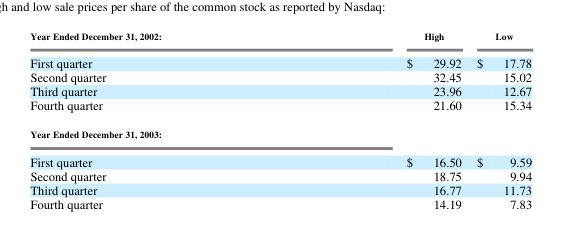table: (29, 29, 531, 211)
table column: (29, 29, 283, 211), (283, 29, 468, 211), (468, 29, 531, 211)
table column header: (29, 29, 531, 48)
table projected row header: (29, 120, 531, 146)
table row: (29, 120, 531, 146), (29, 97, 531, 120), (29, 146, 531, 168), (29, 48, 531, 69), (29, 29, 531, 48), (29, 195, 531, 211), (29, 69, 531, 83), (29, 83, 531, 97), (29, 168, 531, 182), (29, 182, 531, 195)
